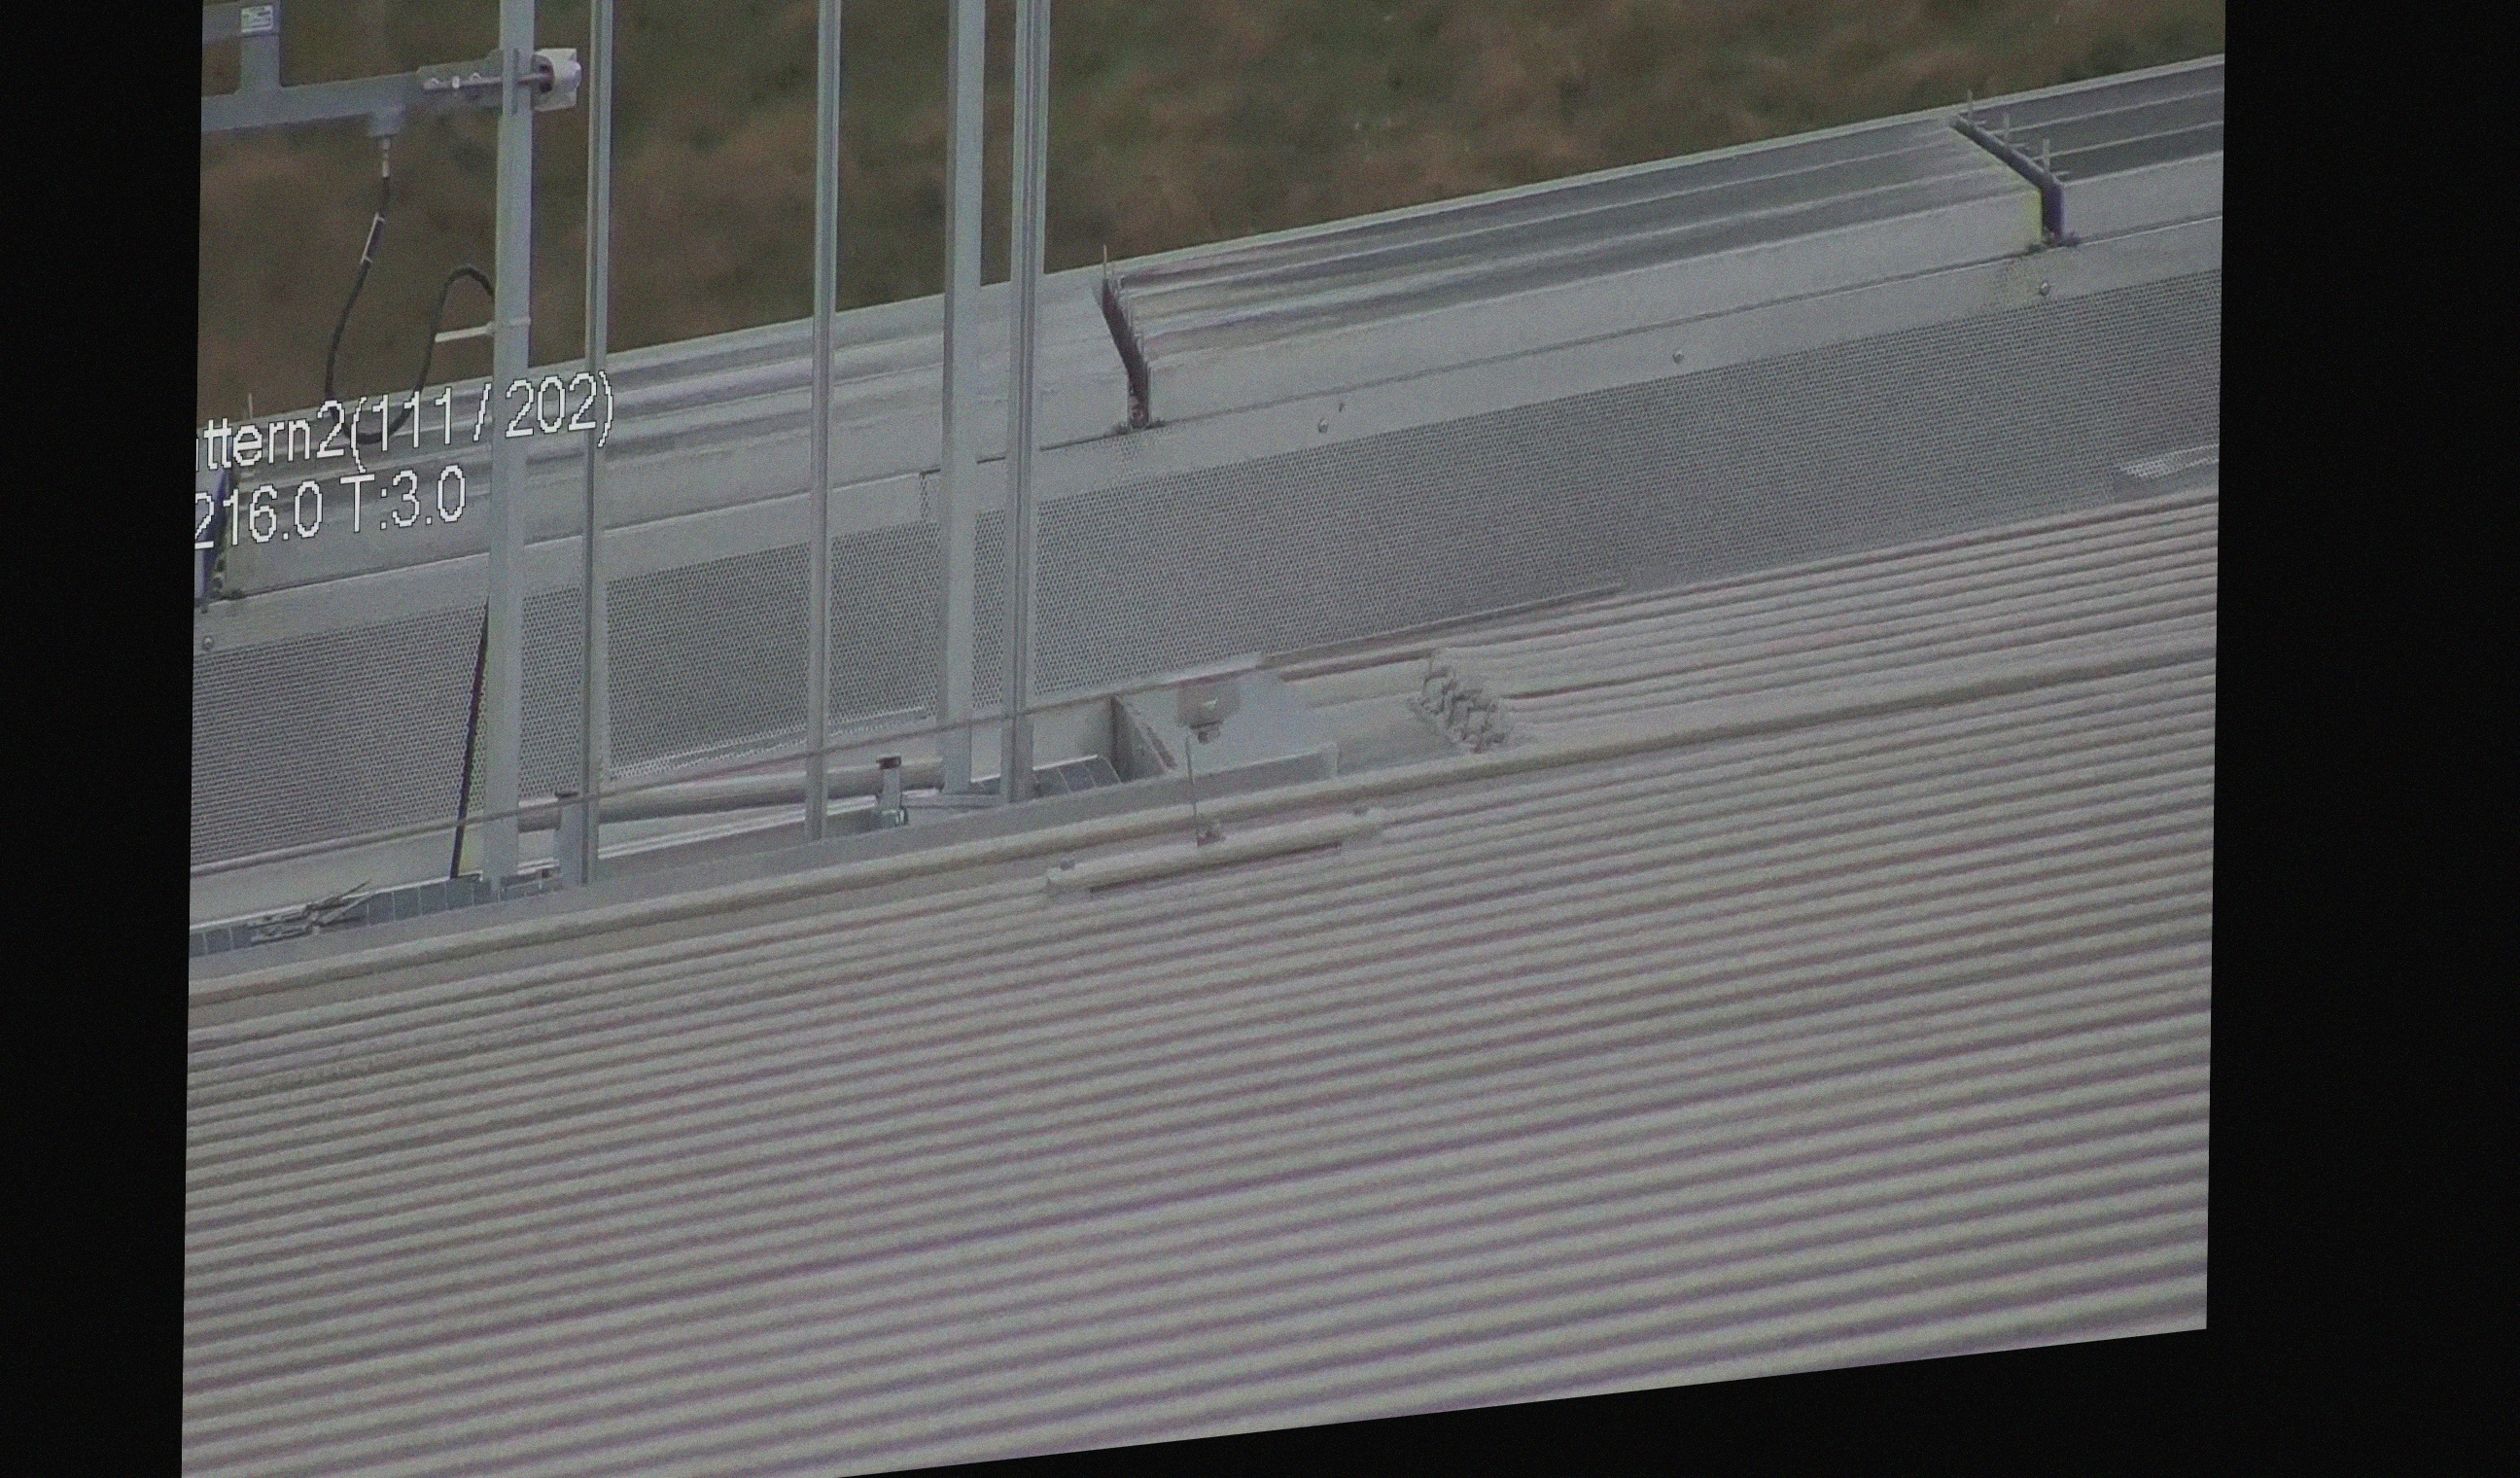Other: (1080, 232, 1178, 443)
